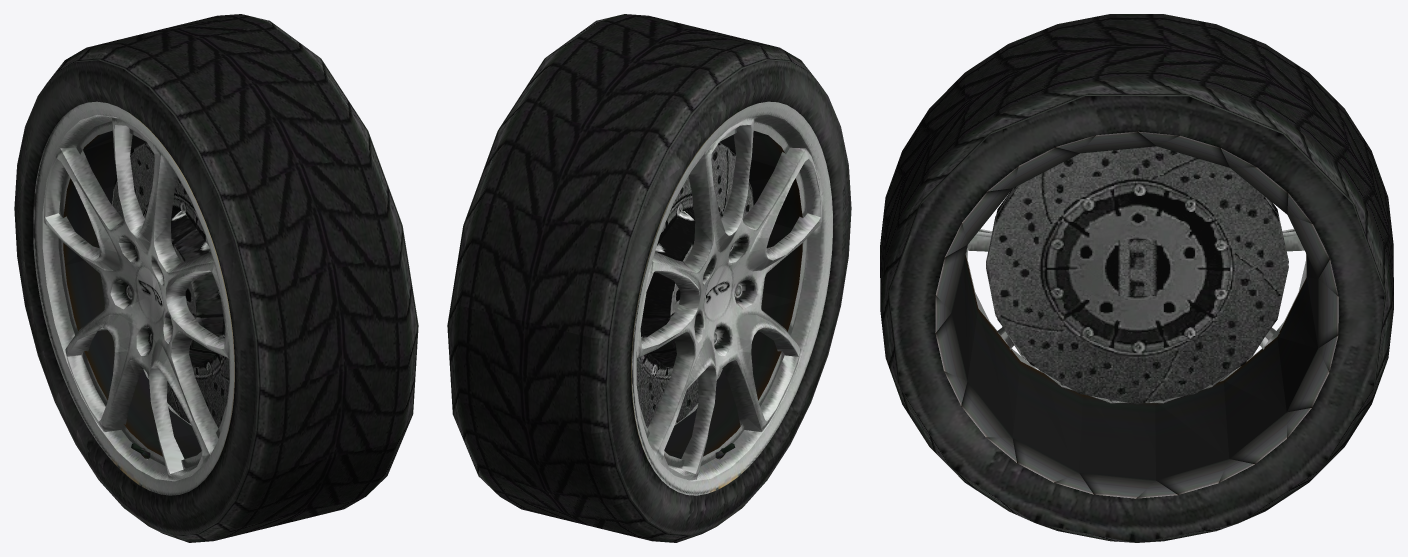
The model's file is wheel.obj.
3 renders of one model, left to right at view 1: azimuth 30°, elevation 25°; view 2: azimuth 150°, elevation 25°; view 3: azimuth 270°, elevation 25°, orthographic.
Parts seen in each view (by area): view 1: part_026; view 2: part_026; view 3: part_026.
Part boxes in pixels (x1,y1,x2,y2): part_026: (14, 14, 418, 542); part_026: (447, 14, 851, 542); part_026: (880, 14, 1393, 542).
Bounding box in the file's own units: 0.2462 × 0.6574 × 0.6612.
